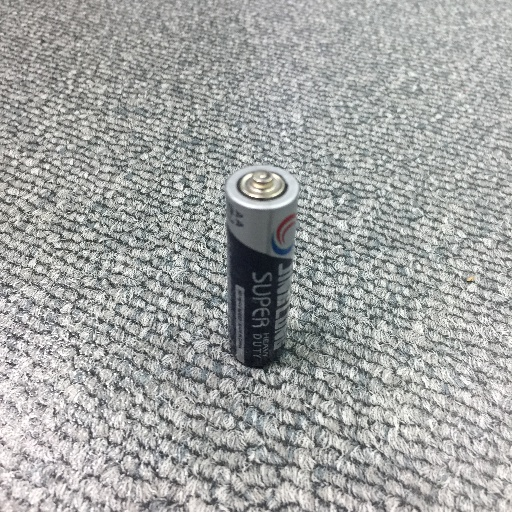Battery_0: (220, 157, 306, 383)
